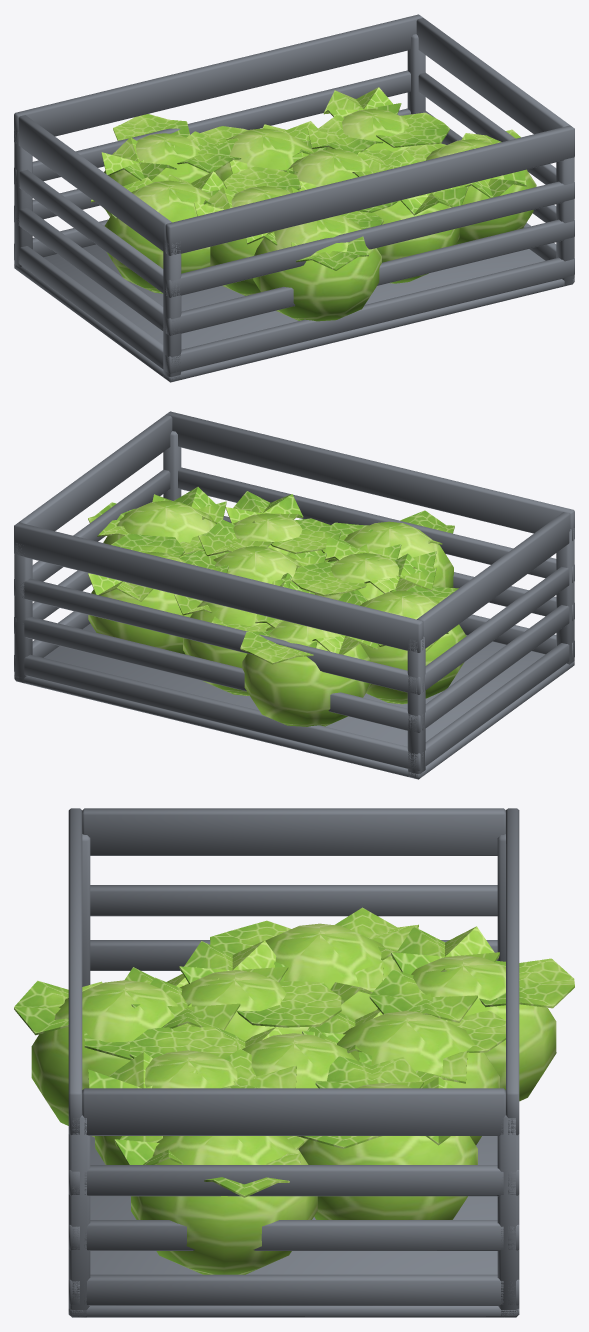
File: harvest_crate_lettuce.glb
The picture shows the model from 3 angles, top to bottom: view 1: azimuth 30°, elevation 25°; view 2: azimuth 150°, elevation 25°; view 3: azimuth 270°, elevation 25°; orthographic projection. The views are drawn at different scales.
Visible parts, largest first — view 1: harvest_crate_lettuce; view 2: harvest_crate_lettuce; view 3: harvest_crate_lettuce.
Part boxes in pixels (x1,y1,x2,y2): harvest_crate_lettuce: (14, 14, 574, 382); harvest_crate_lettuce: (14, 411, 574, 779); harvest_crate_lettuce: (14, 808, 574, 1317).
Bounding box in the file's own units: 0.6212 × 0.2215 × 0.498.
2 materials, 1 textured.
